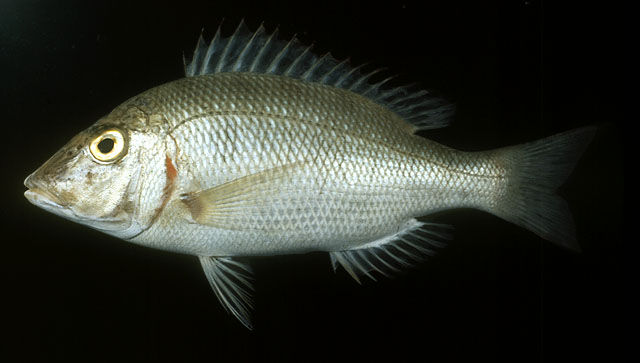fish: (23, 18, 576, 333)
